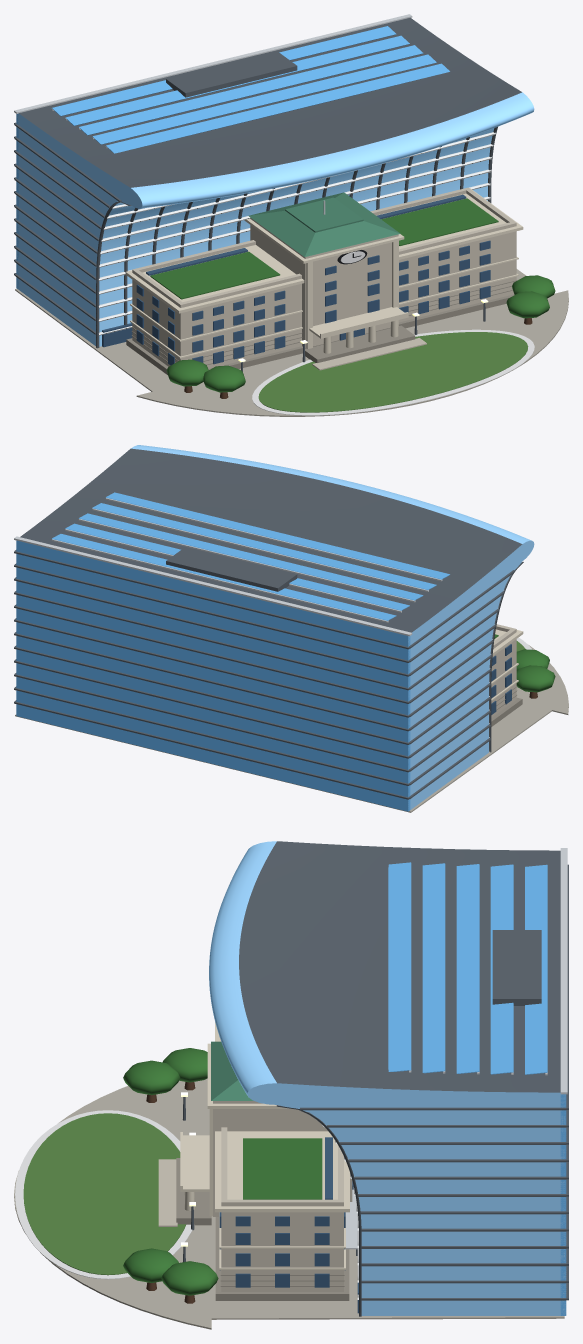
The model's file is seoul-city-hall.glb.
3 views of the same model, one above another, from view 1: azimuth 30°, elevation 25°; view 2: azimuth 150°, elevation 25°; view 3: azimuth 270°, elevation 25° (orthographic). The views are drawn at different scales.
Bounding box in the file's own units: 116 × 47.4 × 102.
